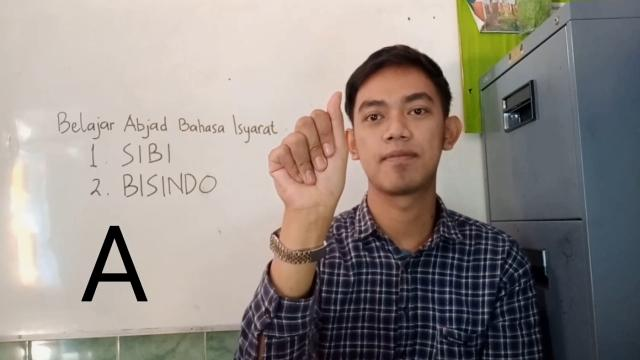A: (269, 88, 351, 218)
